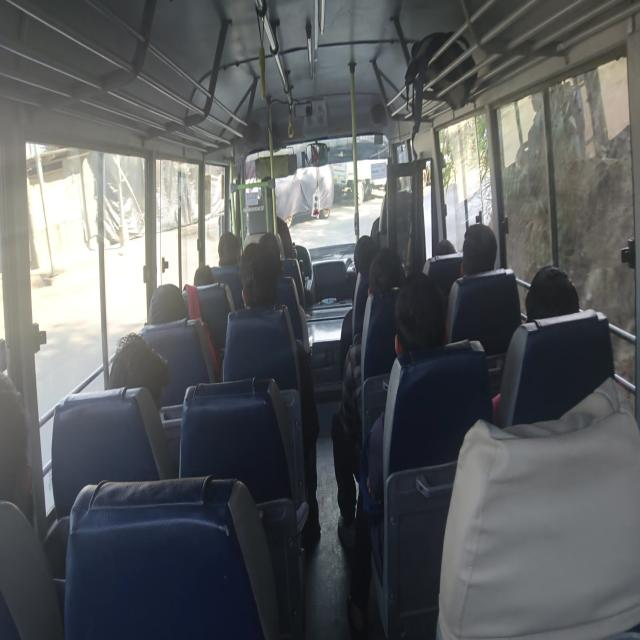person: (436, 376, 640, 638), (347, 272, 448, 636), (221, 240, 321, 542), (332, 247, 406, 548), (492, 264, 580, 425), (446, 222, 498, 342), (339, 234, 377, 374), (108, 331, 170, 409), (524, 264, 580, 322), (147, 283, 188, 324), (218, 231, 240, 269)
